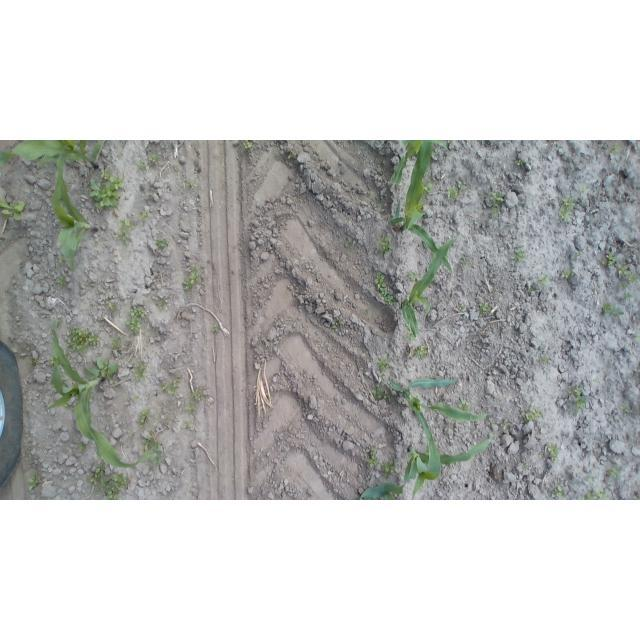Maize: (46, 313, 157, 468), (357, 430, 496, 500), (392, 140, 453, 272), (53, 143, 102, 273), (388, 377, 488, 439), (402, 237, 458, 339), (0, 140, 104, 168), (389, 141, 450, 188)
Weeds: (90, 174, 125, 208), (65, 324, 102, 355), (101, 474, 132, 499), (182, 261, 203, 292), (375, 272, 394, 305), (126, 305, 146, 336), (142, 437, 162, 467), (93, 357, 120, 379), (1, 199, 26, 222), (617, 264, 639, 289), (558, 196, 574, 224), (135, 407, 154, 429), (86, 463, 104, 485), (163, 374, 182, 394), (582, 488, 609, 501), (135, 360, 150, 382), (381, 457, 396, 479), (27, 471, 44, 490), (603, 302, 622, 319), (364, 445, 378, 467), (525, 405, 544, 421), (113, 229, 131, 245), (477, 299, 492, 317), (551, 483, 567, 499), (378, 238, 394, 254), (112, 334, 125, 353), (548, 443, 561, 462), (490, 190, 505, 206), (412, 344, 428, 358), (511, 247, 525, 262), (607, 140, 621, 154), (155, 238, 170, 251), (601, 252, 616, 265), (571, 396, 587, 408), (566, 385, 583, 396), (377, 356, 390, 370), (137, 159, 149, 174), (371, 387, 383, 402), (121, 220, 137, 231), (457, 398, 471, 410), (446, 186, 458, 200), (405, 327, 415, 343), (608, 467, 621, 479), (192, 388, 204, 401), (577, 184, 590, 196), (536, 274, 548, 287), (621, 292, 636, 302), (406, 269, 418, 281), (422, 182, 433, 195), (618, 404, 632, 414), (539, 355, 552, 365), (139, 211, 150, 222), (156, 299, 167, 310), (56, 276, 67, 287), (108, 300, 118, 312), (77, 443, 87, 455), (149, 155, 159, 166), (560, 269, 570, 280), (501, 418, 509, 431), (460, 257, 469, 268), (102, 167, 110, 179), (50, 355, 59, 365), (186, 405, 196, 414), (212, 323, 221, 333), (490, 207, 499, 216), (473, 221, 482, 230), (244, 141, 253, 150), (28, 356, 36, 366), (59, 255, 66, 266), (459, 183, 470, 190), (375, 194, 383, 203), (186, 181, 196, 188), (526, 287, 534, 295), (55, 320, 62, 329), (516, 160, 525, 167), (333, 322, 340, 330), (183, 421, 190, 429), (345, 240, 353, 247), (92, 241, 100, 247), (172, 164, 178, 172), (116, 153, 124, 159), (383, 393, 391, 399), (587, 475, 593, 483), (523, 464, 529, 471), (129, 433, 135, 439), (593, 377, 599, 383), (132, 396, 139, 401), (620, 154, 624, 162), (366, 191, 371, 197), (364, 497, 373, 500), (288, 154, 293, 159), (578, 252, 583, 257), (362, 141, 370, 144), (461, 305, 465, 311), (539, 453, 542, 457)
